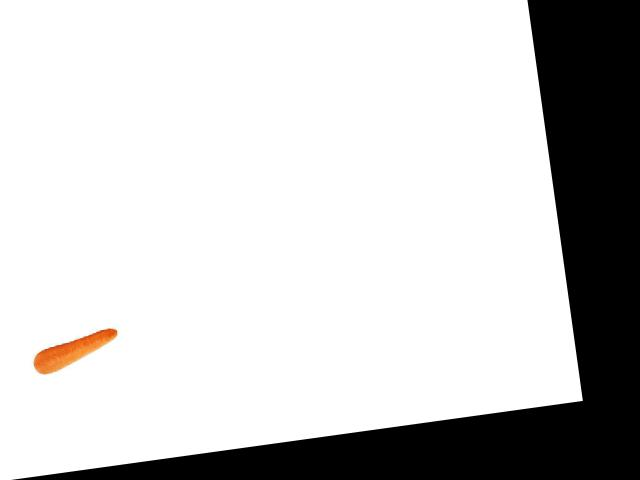carrot: (28, 327, 126, 379)
